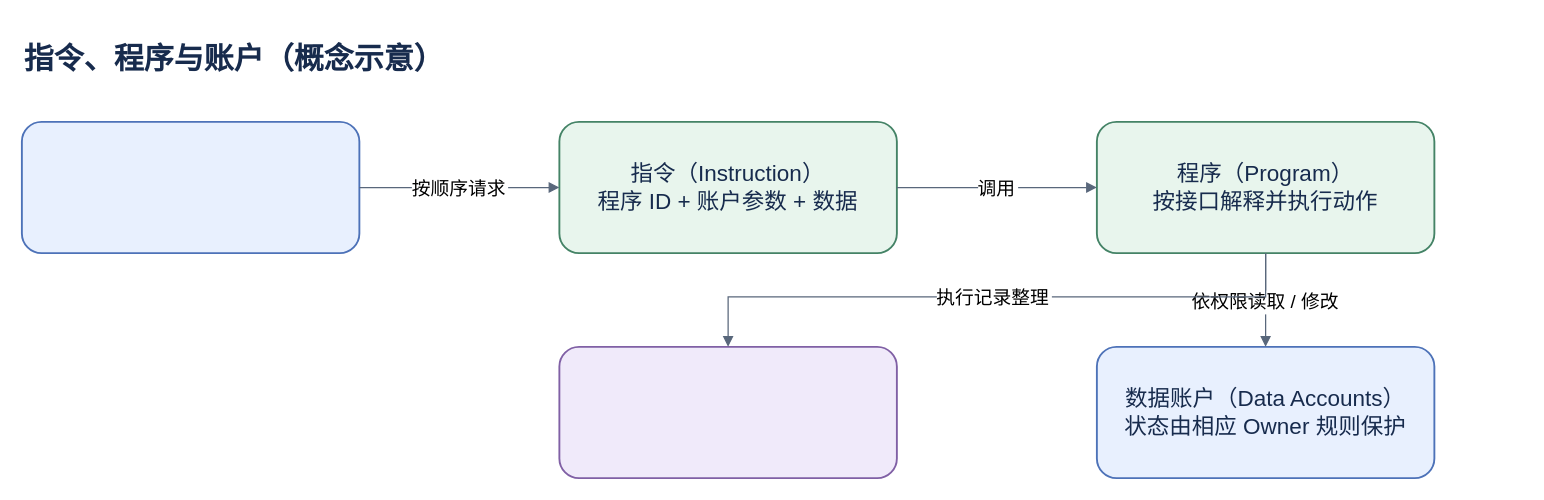
This 1544x500 diagram has some shape labels left out. Here are the shapes that lost their labels. From the top down, the centre of each, then its label:
At [190,187]: "交易（Transaction） 提供账户与授权".
At [727,411]: "指令表（Instruction Calls） 一调用一行，保留 tx_id".
